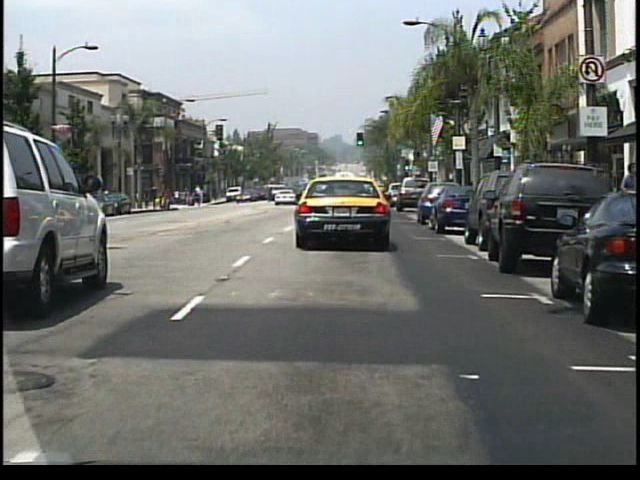person: (197, 190, 205, 206)
